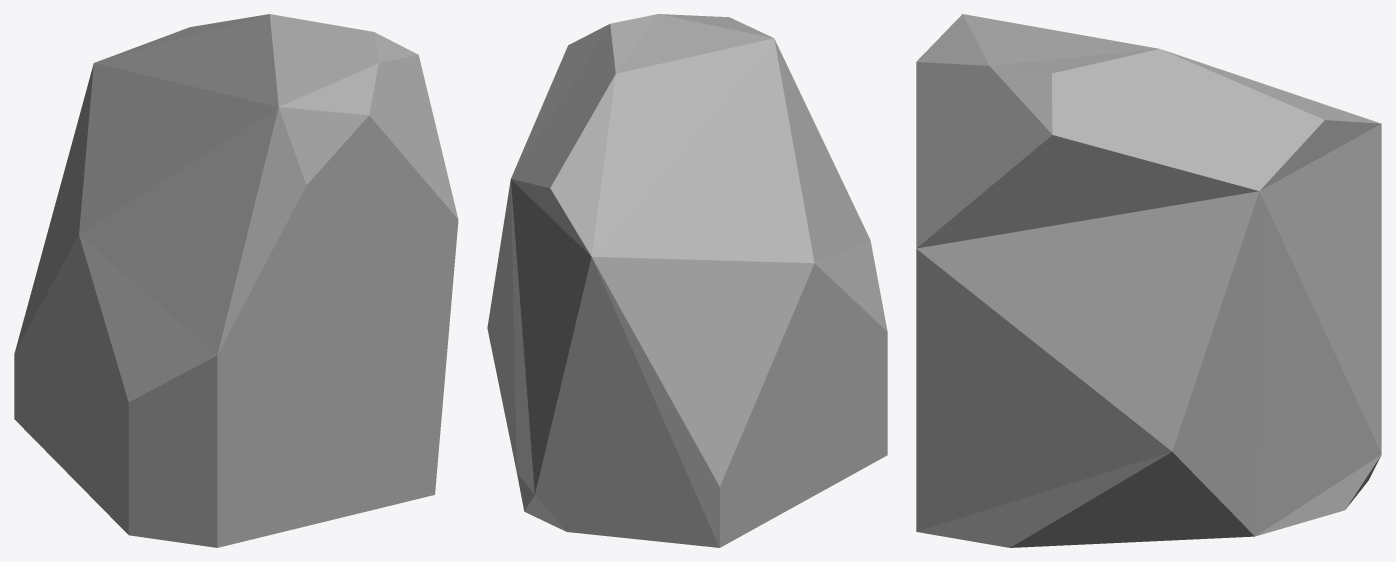
File: Gros_Cailloux.fbx
3 renders of one model, left to right at view 1: azimuth 30°, elevation 25°; view 2: azimuth 150°, elevation 25°; view 3: azimuth 270°, elevation 25°, orthographic. The views are drawn at different scales.
Parts seen in each view (by area): view 1: Gros_Cailloux; view 2: Gros_Cailloux; view 3: Gros_Cailloux.
Boxes of the visible parts, x1,y1,x2,y2 form: Gros_Cailloux: (14, 14, 458, 547); Gros_Cailloux: (487, 14, 887, 547); Gros_Cailloux: (916, 14, 1381, 547).
Bounding box in the file's own units: 284 × 325 × 299.
1 material, 1 textured.
